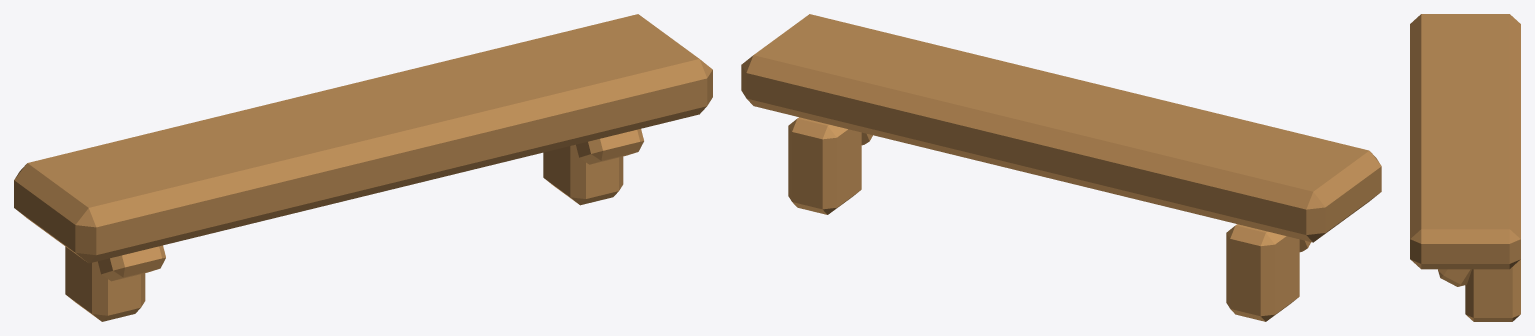
The model's file is window_sill.glb.
3 renders of one model, left to right at view 1: azimuth 30°, elevation 25°; view 2: azimuth 150°, elevation 25°; view 3: azimuth 270°, elevation 25°, orthographic. The views are drawn at different scales.
Visible parts, largest first — view 1: window_sill; view 2: window_sill; view 3: window_sill.
Boxes of the visible parts, box(x1,y1,x2,y2) form: window_sill: box(14, 14, 712, 321); window_sill: box(741, 14, 1381, 321); window_sill: box(1410, 14, 1520, 321).
Size of the model in its own units: 0.96 by 0.22 by 0.2.
